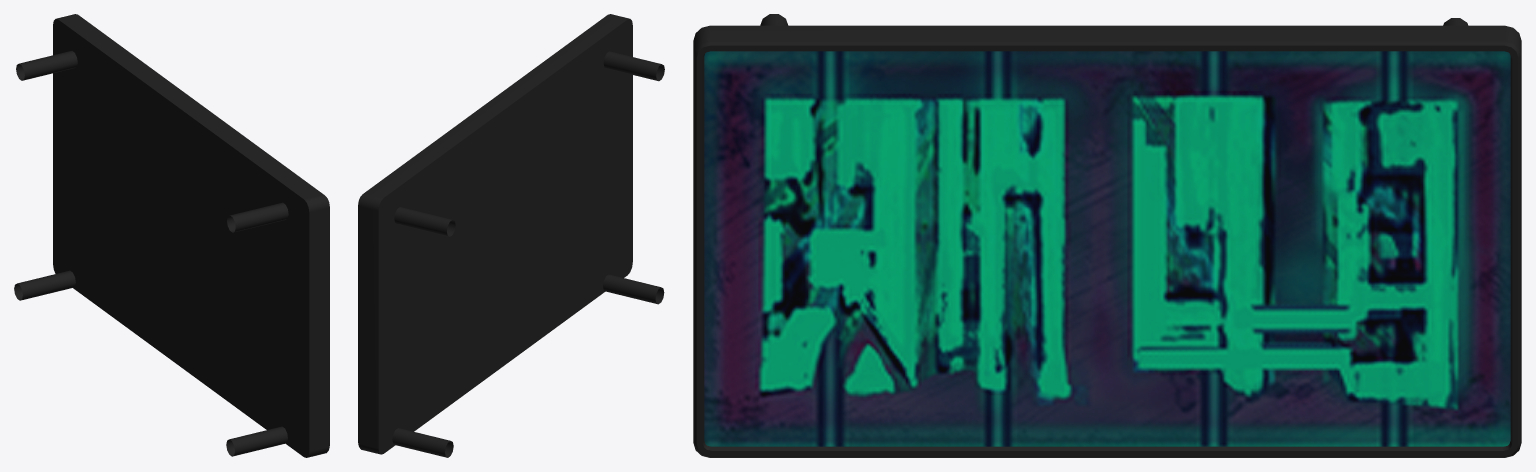
File: SM_TrainSign_01.fbx
3 renders of one model, left to right at view 1: azimuth 30°, elevation 25°; view 2: azimuth 150°, elevation 25°; view 3: azimuth 270°, elevation 25°, orthographic. The views are drawn at different scales.
Visible parts, largest first — view 1: polySurface1151; view 2: polySurface1151; view 3: polySurface1151.
Part boxes in pixels (x1=…): polySurface1151: x1=14, y1=14, x2=329, y2=457; polySurface1151: x1=358, y1=14, x2=664, y2=457; polySurface1151: x1=693, y1=14, x2=1521, y2=457.
Size of the model in its own units: 94.9 by 314 by 565.
